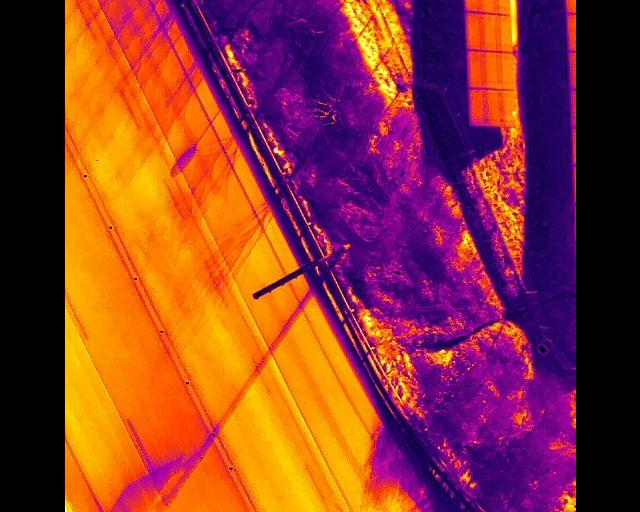Cell: (502, 90, 514, 125), (481, 0, 497, 14), (496, 0, 509, 17)
No-Anomaly: (467, 50, 486, 90), (469, 89, 487, 125), (482, 14, 499, 52), (464, 13, 481, 50), (485, 52, 501, 91), (486, 90, 502, 127), (500, 53, 514, 89), (498, 15, 511, 52), (463, 0, 481, 13)
